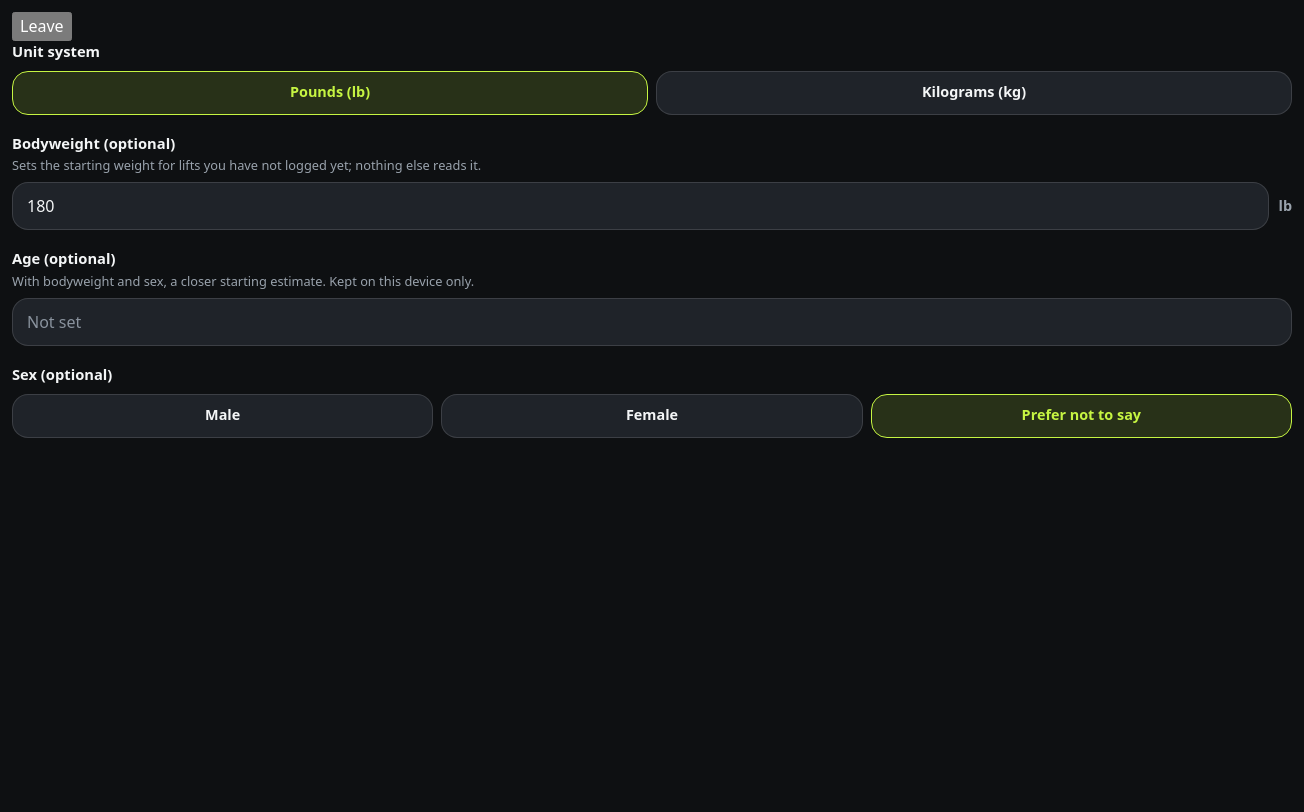
Scenario: UnitsEditor after the review of item 40 › judges a change of a quarter in the units shown, the confirmed one converted: 82 kg after 180 lb
Click the radio button labelled "Kilograms (kg)" at (974, 92), box [656,70,1292,114]
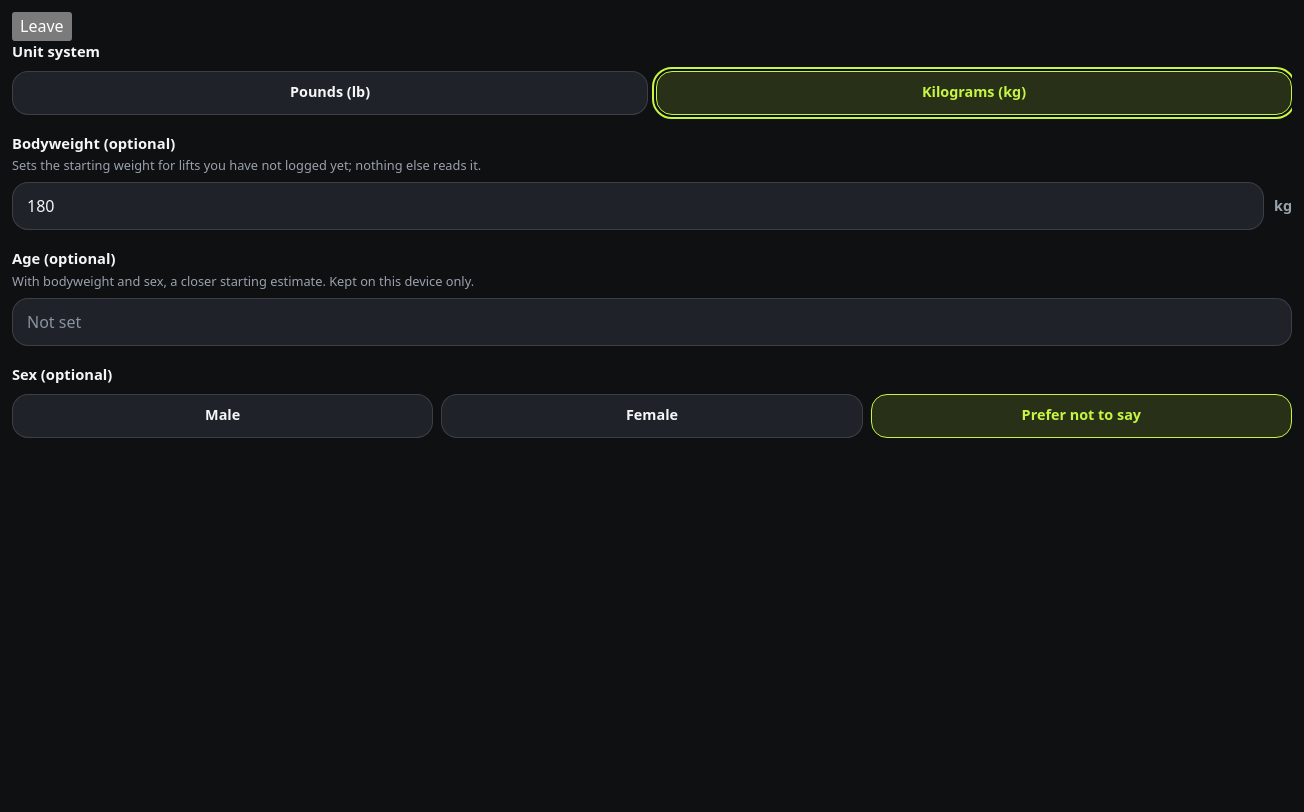
Replace the text in the number field labelled "Bodyweight (optional)" with "82" at (638, 206), box [12,182,1264,230]
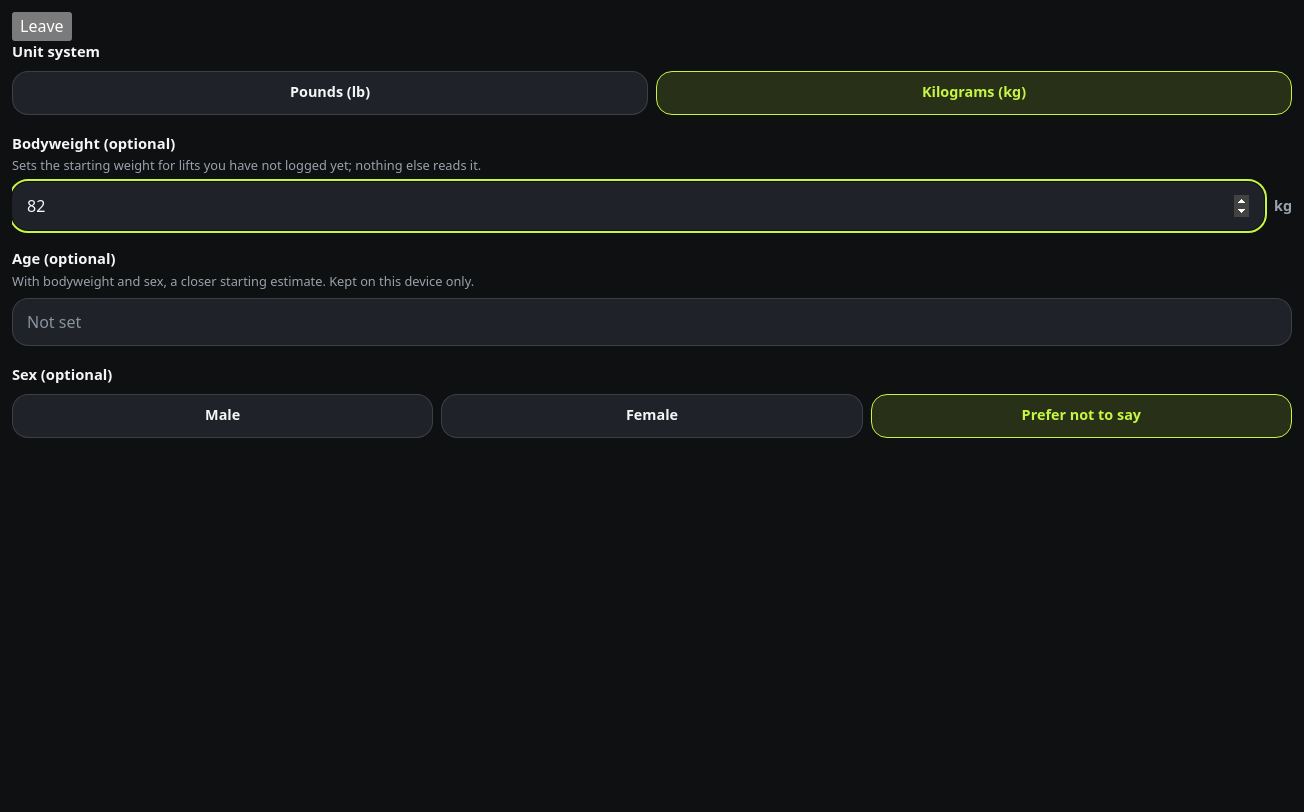
Replace the text in the number field labelled "Bodyweight (optional)" with "180" at (638, 206), box [12,182,1264,230]
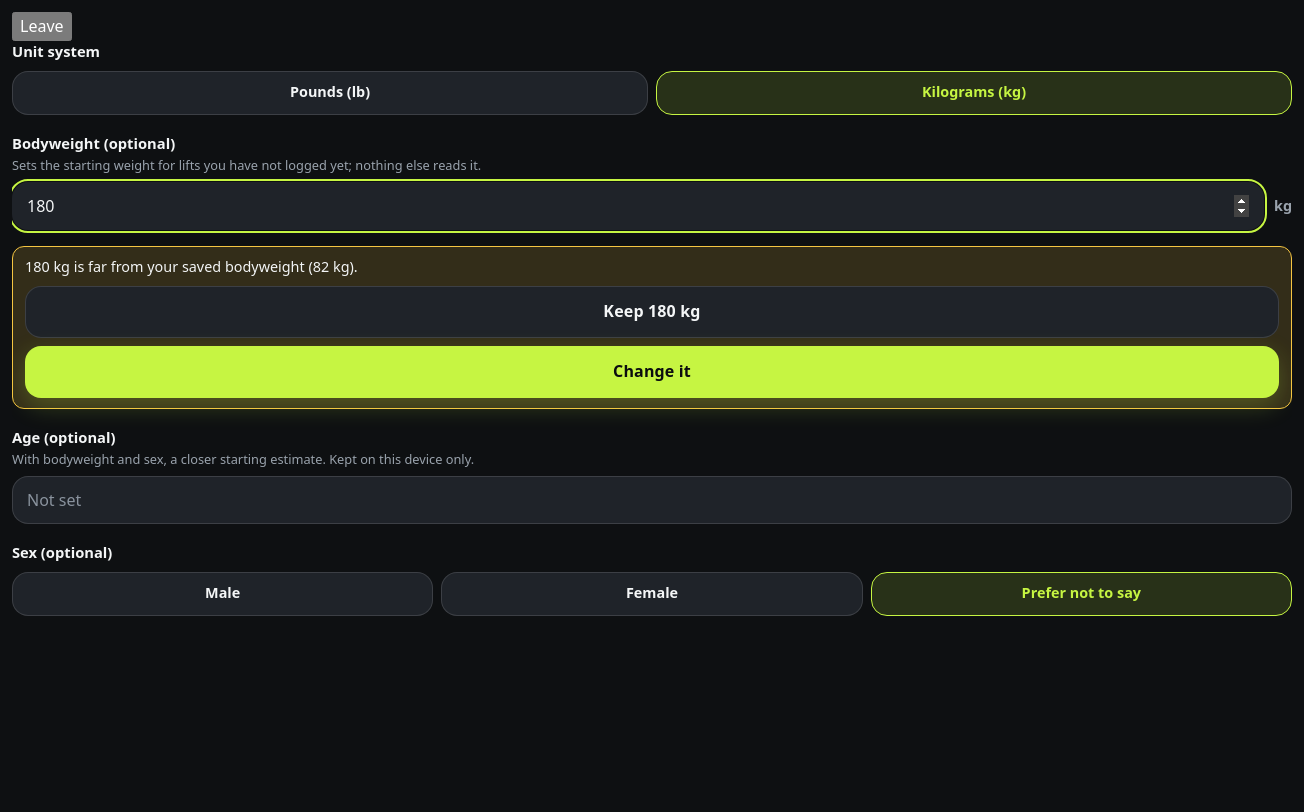
Now the message reads "180 kg is far from your saved bodyweight (82 kg).", box [25,257,358,276]
